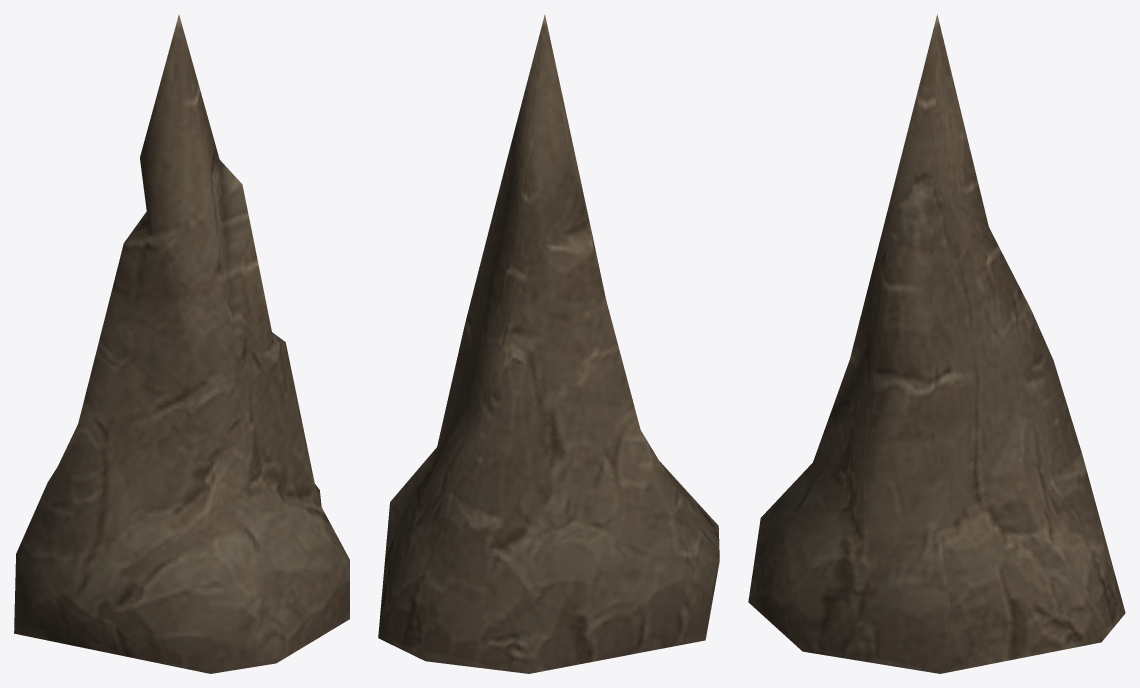
The model's file is guaishi01.FBX.
3 renders of one model, left to right at view 1: azimuth 30°, elevation 25°; view 2: azimuth 150°, elevation 25°; view 3: azimuth 270°, elevation 25°, orthographic.
Parts seen in each view (by area): view 1: polySurface1258; view 2: polySurface1258; view 3: polySurface1258.
Boxes of the visible parts, bbox=[...] form: polySurface1258: bbox=[14, 14, 349, 673]; polySurface1258: bbox=[378, 14, 719, 673]; polySurface1258: bbox=[748, 14, 1125, 673].
Bounding box in the file's own units: 24.63 × 43.93 × 25.6.
